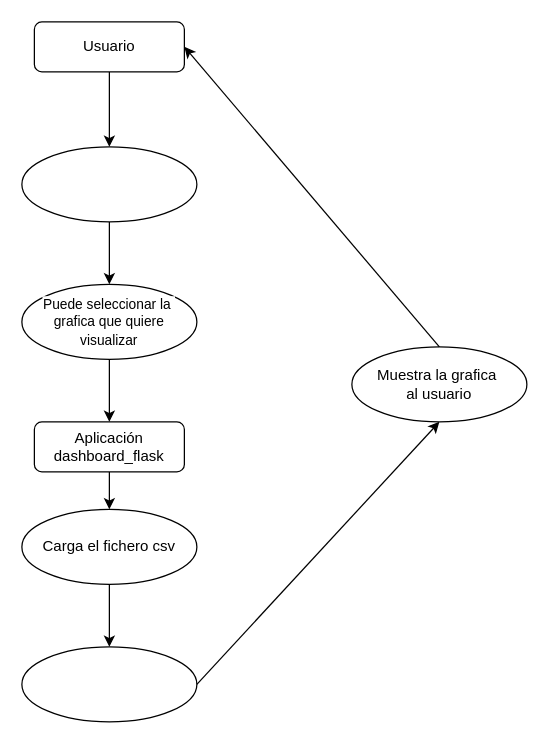
The diagram is 549 pixels wide and 744 high, and some of its shapes have lost their labels. Each missing label, with the box of its shape:
accede a la aplicación web local: (21, 146, 197, 222)
Genera las graficas correspondientes: (21, 646, 197, 722)
